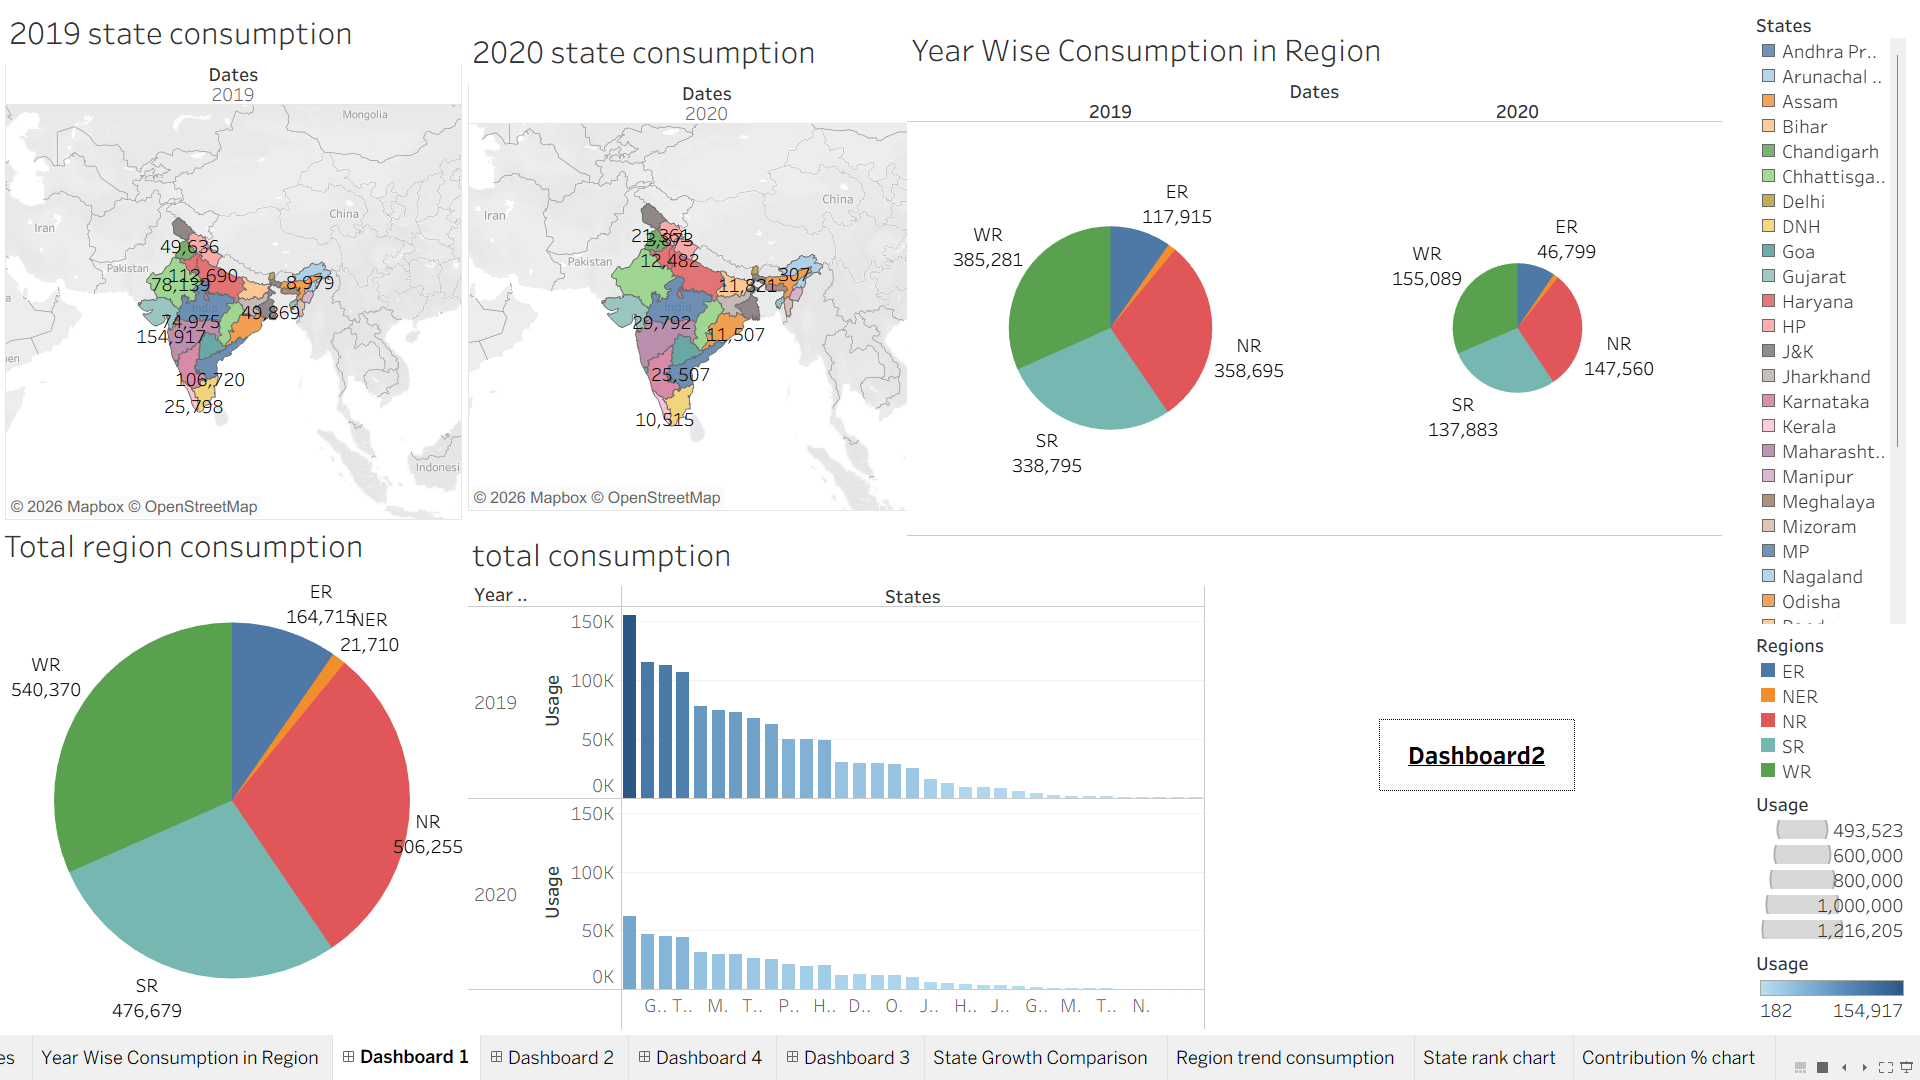

The page's visual inventory and layout, read from the dashboard file:
{"tool":"tableau","page":{"name":"Dashboard 1","canvas":[1000,1000],"units":"permille","ordinal":0},"visuals":[{"type":"worksheet","title":"2019 state consumption","mark":"Multipolygon","rows":["latitude"],"cols":["Dates","longitude"],"box":[2.5,6.7,238.2,496]},{"type":"legend","title":"2019 state consumption","param":"[federated.0kxg41e0jhsp7912dl5lz15mm04g].[none:States:nk]","box":[893.3,10.6,101.6,448.1]},{"type":"worksheet","title":"Year Wise Consumption in Region","mark":"Pie","cols":["Dates"],"box":[472.6,22.8,424.6,494.6]},{"type":"worksheet","title":"2020 state consumption","mark":"Multipolygon","rows":["latitude"],"cols":["Dates","longitude"],"box":[243.8,25.5,248.8,482.6]},{"type":"legend","title":"Year Wise Consumption in Region","param":"[federated.0kxg41e0jhsp7912dl5lz15mm04g].[none:Regions:nk]","box":[893.3,458.8,101.6,211.4]},{"type":"worksheet","title":"Total region consumption","mark":"Pie","box":[0,502.7,241.9,486.6]},{"type":"worksheet","title":"total consumption","mark":"Automatic","rows":["Dates","Usage"],"cols":["States"],"box":[243.8,510.7,384,483.9]},{"type":"legend","title":"Year Wise Consumption in Region","param":"[federated.0kxg41e0jhsp7912dl5lz15mm04g].[sum:Usage:qk]","box":[893.3,670.2,101.6,211.4]},{"type":"dashboard-object","box":[718.2,694.4,102.2,69.7]},{"type":"legend","title":"total consumption","param":"[federated.0kxg41e0jhsp7912dl5lz15mm04g].[sum:Usage:qk]","box":[893.3,881.6,101.6,107.7]}]}

Visuals, with their boxes on the dashboard's canvas, which has no fixed pixel size, in thousandths of its width and height (x1, y1, x2, y2). These are canvas units, not pixel positions in the 1920x1080 screenshot, which may show the page scaled, cropped or inside an application window:
"2019 state consumption" worksheet (Multipolygon marks): select_region(2, 7, 241, 503)
"2019 state consumption" legend: select_region(893, 11, 995, 459)
"Year Wise Consumption in Region" worksheet (Pie marks): select_region(473, 23, 897, 517)
"2020 state consumption" worksheet (Multipolygon marks): select_region(244, 26, 493, 508)
"Year Wise Consumption in Region" legend: select_region(893, 459, 995, 670)
"Total region consumption" worksheet (Pie marks): select_region(0, 503, 242, 989)
"total consumption" worksheet: select_region(244, 511, 628, 995)
"Year Wise Consumption in Region" legend: select_region(893, 670, 995, 882)
dashboard-object: select_region(718, 694, 820, 764)
"total consumption" legend: select_region(893, 882, 995, 989)
